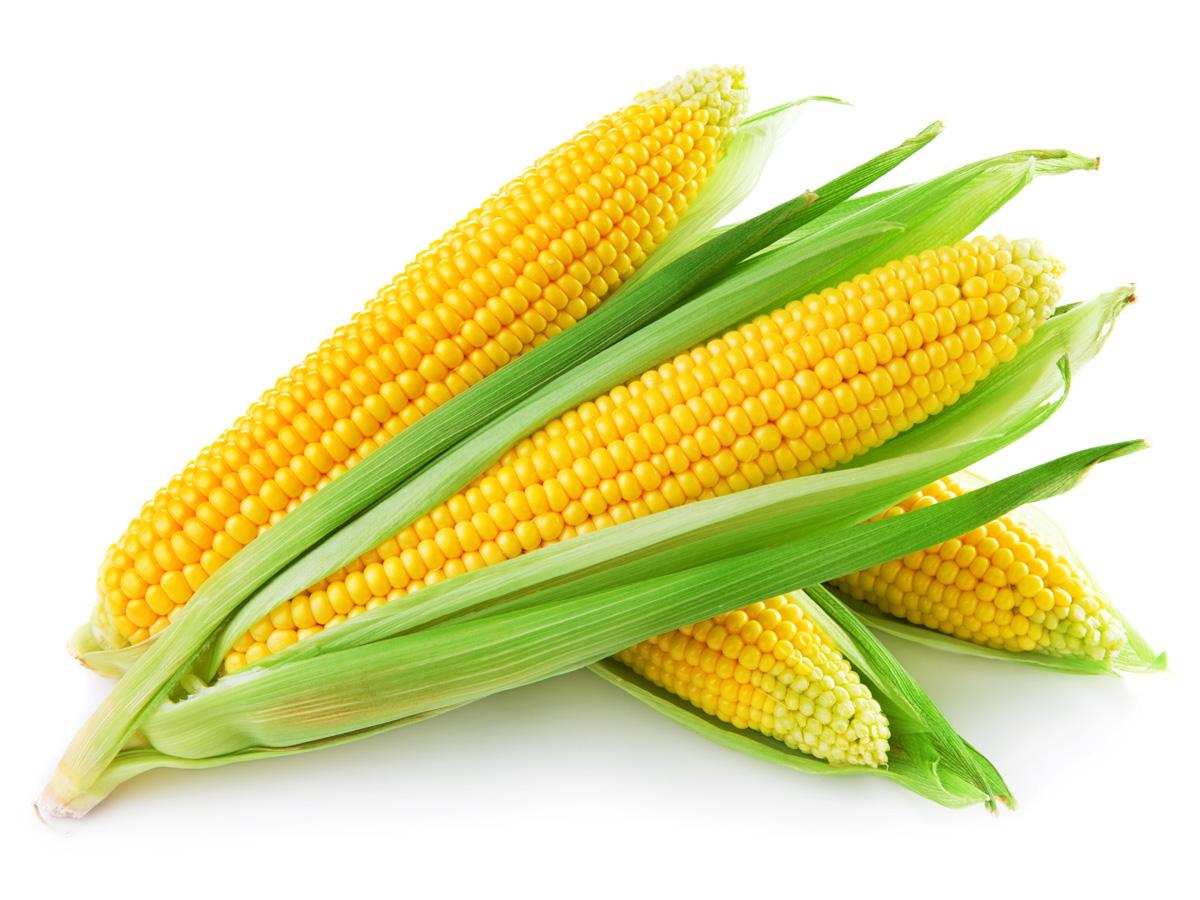corn: (39, 67, 1150, 820), (74, 60, 757, 680), (208, 227, 1069, 684), (827, 467, 1148, 673), (610, 588, 891, 770)
